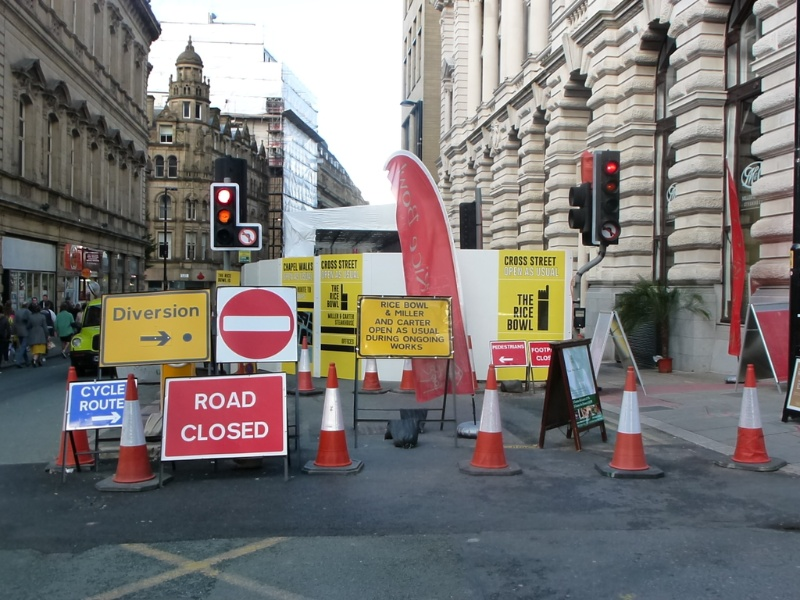diversion: (102, 299, 214, 364)
red_light: (587, 149, 627, 226)
road_closed: (162, 378, 288, 461)
stop: (212, 288, 306, 373)
